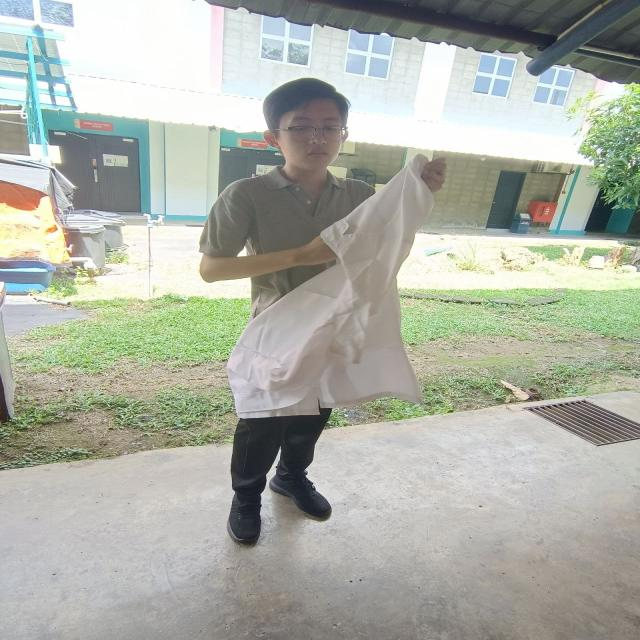person_without_labcoat: (200, 78, 445, 542)
